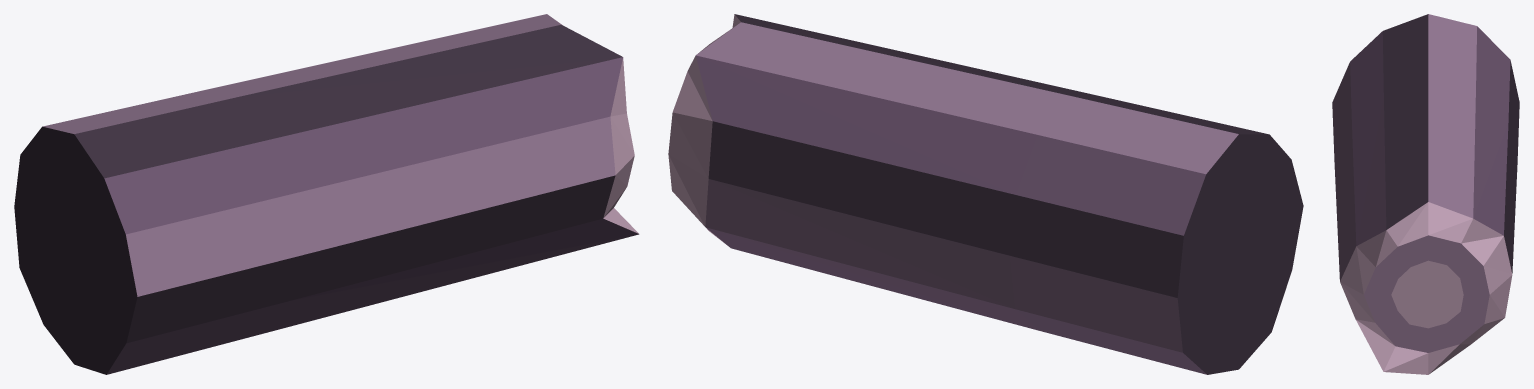
The model's file is TW_LOG_BROKEN_15M_A_LOD0.glb.
3 renders of one model, left to right at view 1: azimuth 30°, elevation 25°; view 2: azimuth 150°, elevation 25°; view 3: azimuth 270°, elevation 25°, orthographic. The views are drawn at different scales.
Parts seen in each view (by area): view 1: TW_LOG_BROKEN_15M_A_LOD0; view 2: TW_LOG_BROKEN_15M_A_LOD0; view 3: TW_LOG_BROKEN_15M_A_LOD0.
Part boxes in pixels (x1,y1,x2,y2): TW_LOG_BROKEN_15M_A_LOD0: [14, 14, 639, 374]; TW_LOG_BROKEN_15M_A_LOD0: [668, 14, 1303, 374]; TW_LOG_BROKEN_15M_A_LOD0: [1332, 14, 1519, 374].
Bounding box in the file's own units: 1.5 × 0.6163 × 0.5976.
Materials: 1 (1 with a texture image).
